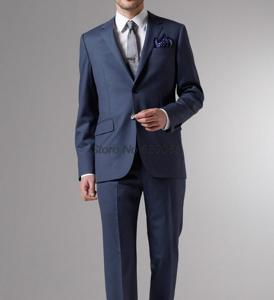F_M_suit jacket: (73, 15, 204, 178)
F_dress pants: (94, 164, 189, 298)
F_pocket square: (154, 32, 173, 50)
F_tie: (122, 19, 141, 76)
